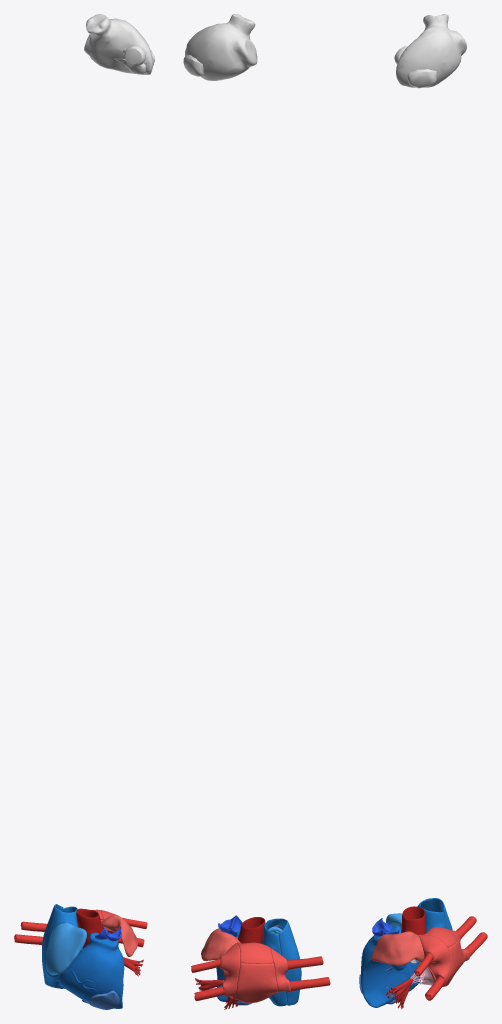
Rendered from bilikTutup.glb.
3 views of the same model, side by side, from view 1: azimuth 30°, elevation 25°; view 2: azimuth 210°, elevation 25°; view 3: azimuth 270°, elevation 25° (orthographic). The views are drawn at different scales.
Parts seen in each view (by area): view 1: FJ2422_BP48785_FMA9466_Cavity of left ventricle, FJ2437_BP48646_FMA7262_Septal papillary muscle of right vent, MM466_BP51829_FMA49298_Pectinate muscle of right auricle, MM591_BP51888_FMA84094_Septal wall of right atrium, FJ3585_BP14836_FMA4754_Right internal jugular vein.001, MM459_BP51840_FMA9547_Wall of left auricle, MM557_BP58405_FMA4685_Stem of left coronary artery, MM564_BP51832_FMA7270_Trabecula carnea of right ventricle; view 2: FJ2422_BP48785_FMA9466_Cavity of left ventricle, MM633_BP51882_FMA9542_Posterior wall of left atrium, MM591_BP51888_FMA84094_Septal wall of right atrium, FJ3585_BP14836_FMA4754_Right internal jugular vein.001, MM459_BP51840_FMA9547_Wall of left auricle, MM557_BP58405_FMA4685_Stem of left coronary artery; view 3: FJ2422_BP48785_FMA9466_Cavity of left ventricle, FJ2437_BP48646_FMA7262_Septal papillary muscle of right vent, MM633_BP51882_FMA9542_Posterior wall of left atrium, MM459_BP51840_FMA9547_Wall of left auricle, FJ3585_BP14836_FMA4754_Right internal jugular vein.001, MM591_BP51888_FMA84094_Septal wall of right atrium, MM557_BP58405_FMA4685_Stem of left coronary artery, MM637_BP51813_FMA7266_Posterior papillary muscle of left ven.
Boxes of the visible parts, x1,y1,x2,y2 form: FJ2422_BP48785_FMA9466_Cavity of left ventricle: (84,14,154,74); FJ2437_BP48646_FMA7262_Septal papillary muscle of right vent: (58,932,124,1008); MM466_BP51829_FMA49298_Pectinate muscle of right auricle: (46,923,86,974); MM591_BP51888_FMA84094_Septal wall of right atrium: (42,904,82,988); FJ3585_BP14836_FMA4754_Right internal jugular vein.001: (14,917,147,947); MM459_BP51840_FMA9547_Wall of left auricle: (101,914,137,956); MM557_BP58405_FMA4685_Stem of left coronary artery: (76,908,103,948); MM564_BP51832_FMA7270_Trabecula carnea of right ventricle: (82,990,119,1009); FJ2422_BP48785_FMA9466_Cavity of left ventricle: (183,14,257,80); MM633_BP51882_FMA9542_Posterior wall of left atrium: (220,942,290,1002); MM591_BP51888_FMA84094_Septal wall of right atrium: (262,918,301,1006); FJ3585_BP14836_FMA4754_Right internal jugular vein.001: (191,956,330,1000); MM459_BP51840_FMA9547_Wall of left auricle: (201,928,240,960); MM557_BP58405_FMA4685_Stem of left coronary artery: (238,917,265,943); FJ2422_BP48785_FMA9466_Cavity of left ventricle: (394,14,466,88); FJ2437_BP48646_FMA7262_Septal papillary muscle of right vent: (361,925,420,1007); MM633_BP51882_FMA9542_Posterior wall of left atrium: (418,927,469,986); MM459_BP51840_FMA9547_Wall of left auricle: (371,931,424,966); FJ3585_BP14836_FMA4754_Right internal jugular vein.001: (414,916,487,1000); MM591_BP51888_FMA84094_Septal wall of right atrium: (417,898,452,964); MM557_BP58405_FMA4685_Stem of left coronary artery: (401,906,426,934); MM637_BP51813_FMA7266_Posterior papillary muscle of left ven: (385,978,413,1009).
Bounding box in the file's own units: 0.129 × 1.12 × 0.1303.
